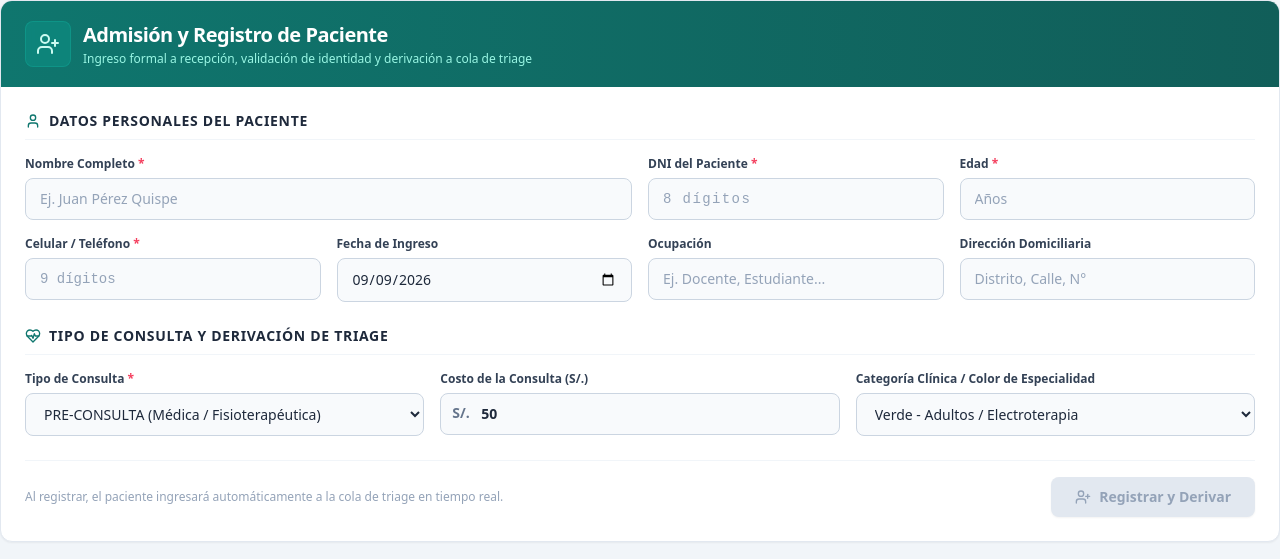
Test: FormularioAdmision Component (Regla de Minoridad y Admisión) › debe actualizar el costo automáticamente según el tipo de consulta seleccionada
This screenshot has width=1280, height=559.
Check: the number field labelled "Costo de la Consulta (S/.)" holds "50", box [440,393,840,435]
Step 1. Select "TERAPIA DIRECTA (Derivado con Orden Externa)" in the dropdown labelled "Tipo de Consulta *" → (225, 414), box [25,393,424,436]
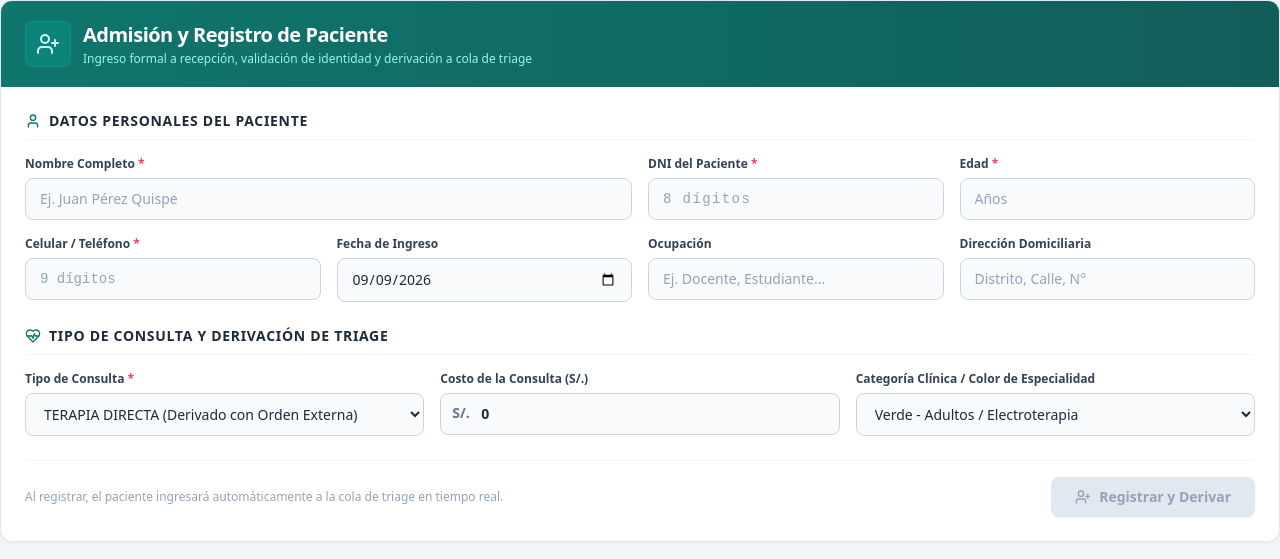
Check: the number field labelled "Costo de la Consulta (S/.)" holds "0", box [440,393,840,435]
Step 2. Select "CONSULTA MÉDICA (Doctor Evaluador)" in the dropdown labelled "Tipo de Consulta *" → (225, 414), box [25,393,424,436]
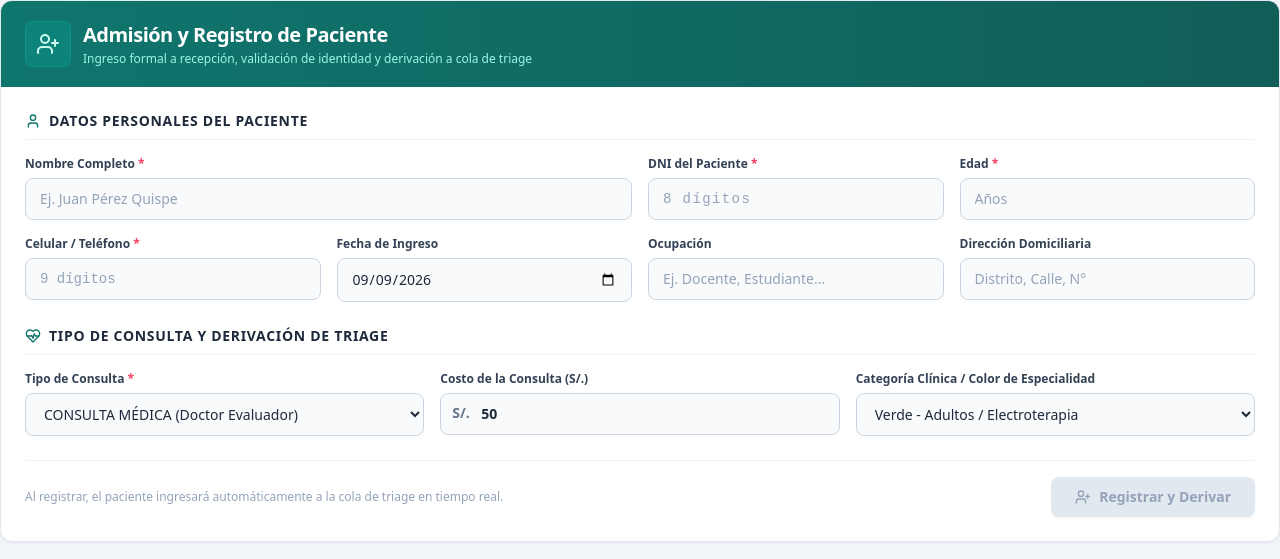
Check: the number field labelled "Costo de la Consulta (S/.)" holds "50", box [440,393,840,435]
